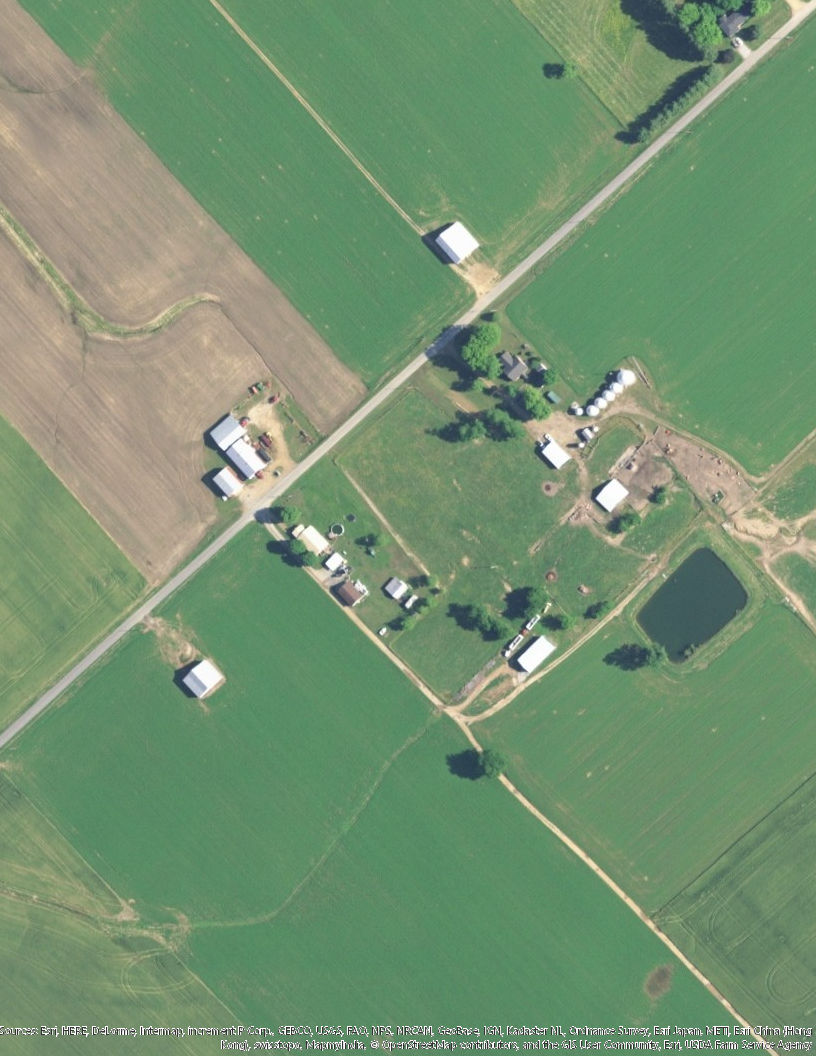cafo: (516, 634, 557, 675), (594, 478, 629, 511)
